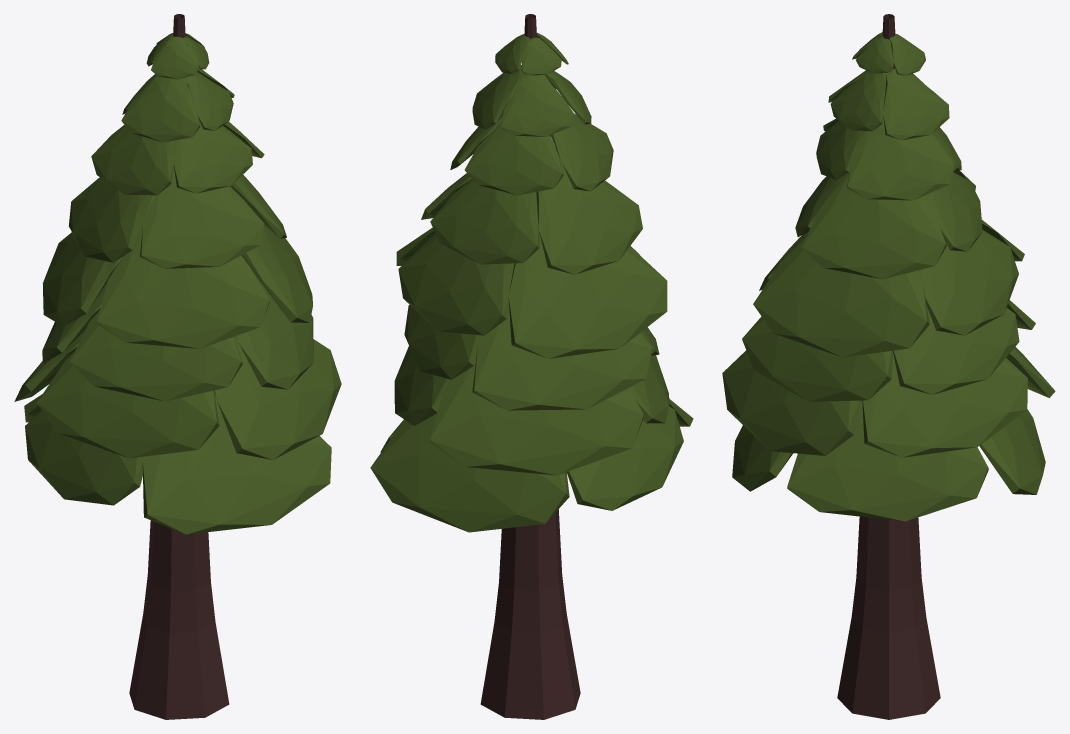
Rendered from Pino.fbx.
3 renders of one model, left to right at view 1: azimuth 30°, elevation 25°; view 2: azimuth 150°, elevation 25°; view 3: azimuth 270°, elevation 25°, orthographic.
Visible parts, largest first — view 1: Pino; view 2: Pino; view 3: Pino.
Part boxes in pixels (x1,y1,x2,y2): Pino: [14, 14, 341, 719]; Pino: [370, 14, 693, 719]; Pino: [722, 14, 1055, 719].
Bounding box in the file's own units: 467 × 1151 × 510.
